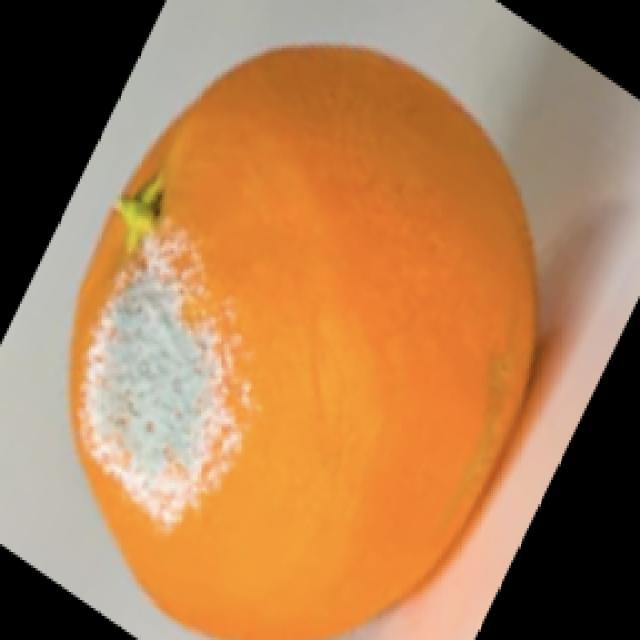sedikit-busuk: (71, 47, 535, 639)
